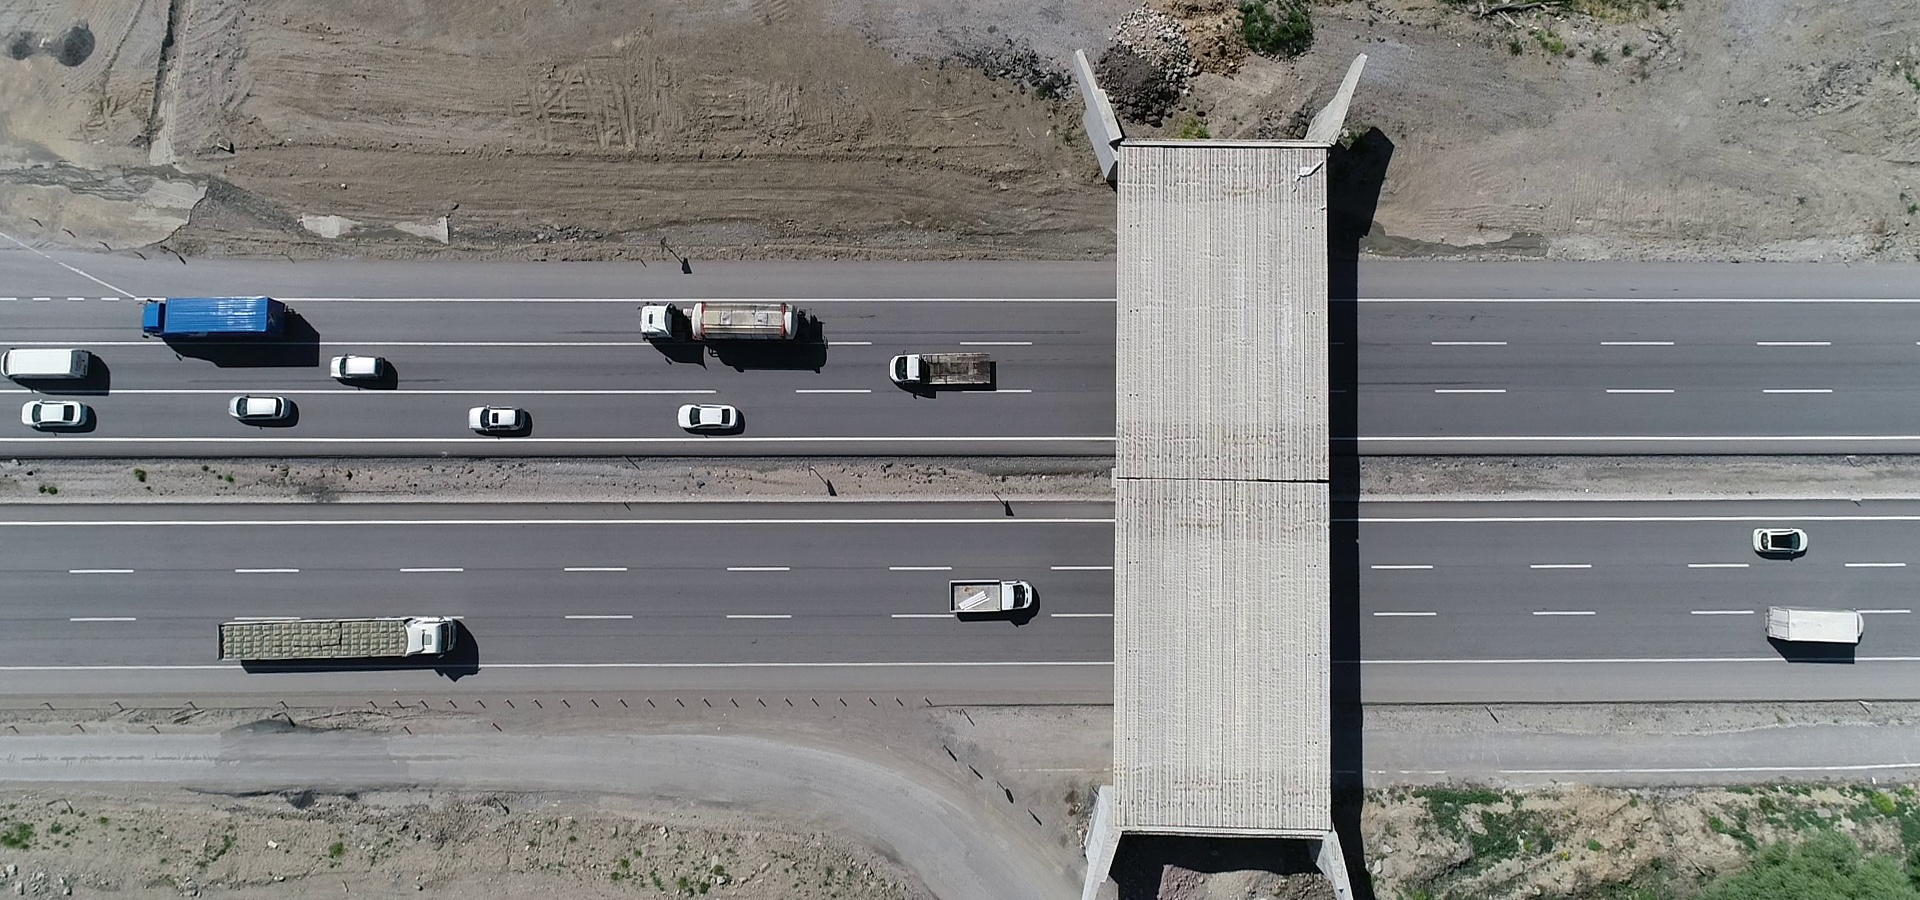araba: (1, 338, 111, 384), (7, 397, 103, 437), (671, 400, 756, 440), (225, 389, 310, 424), (1746, 524, 1820, 556), (463, 405, 541, 435), (324, 351, 391, 384)
kamyon: (208, 615, 471, 669), (130, 290, 300, 347), (639, 301, 811, 356), (1757, 609, 1892, 649)
kamyonet: (885, 345, 1007, 396), (947, 576, 1035, 626)
